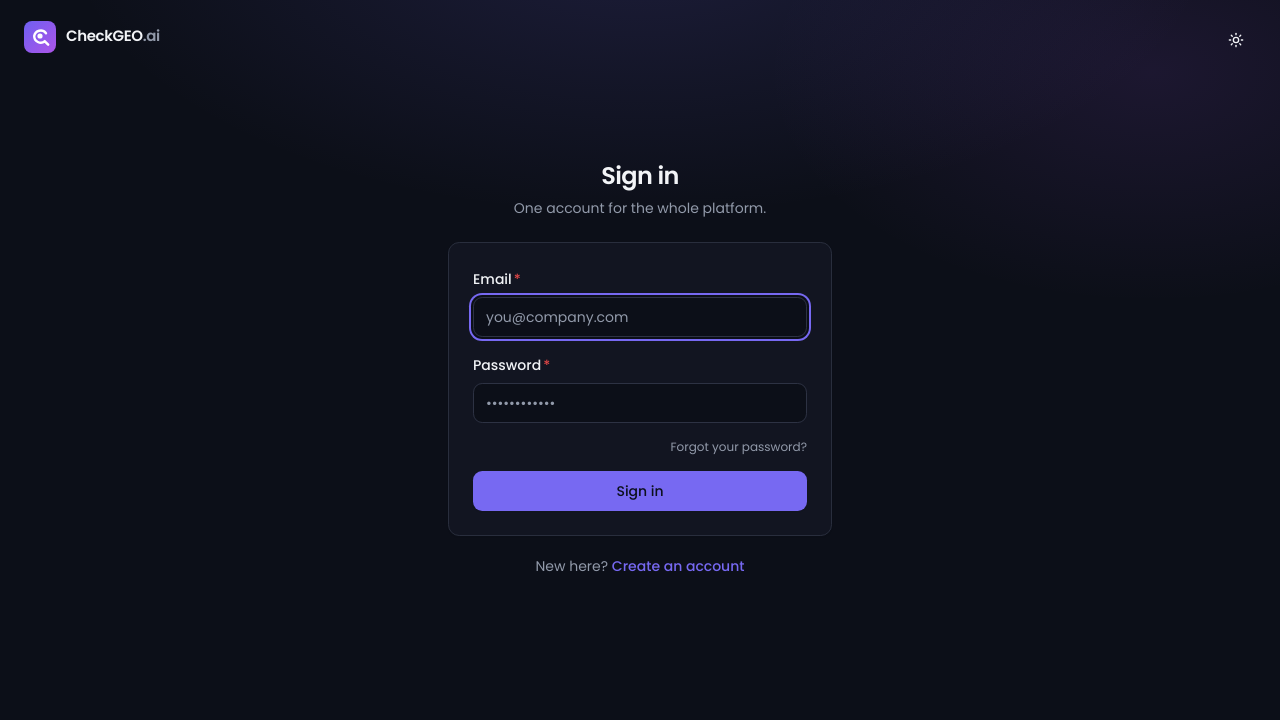
Test: Login page › reveals the two-factor field when the server asks for a code
Type "person@example.com" into the field labelled "Email*" at (640, 317), box [473, 297, 807, 337]
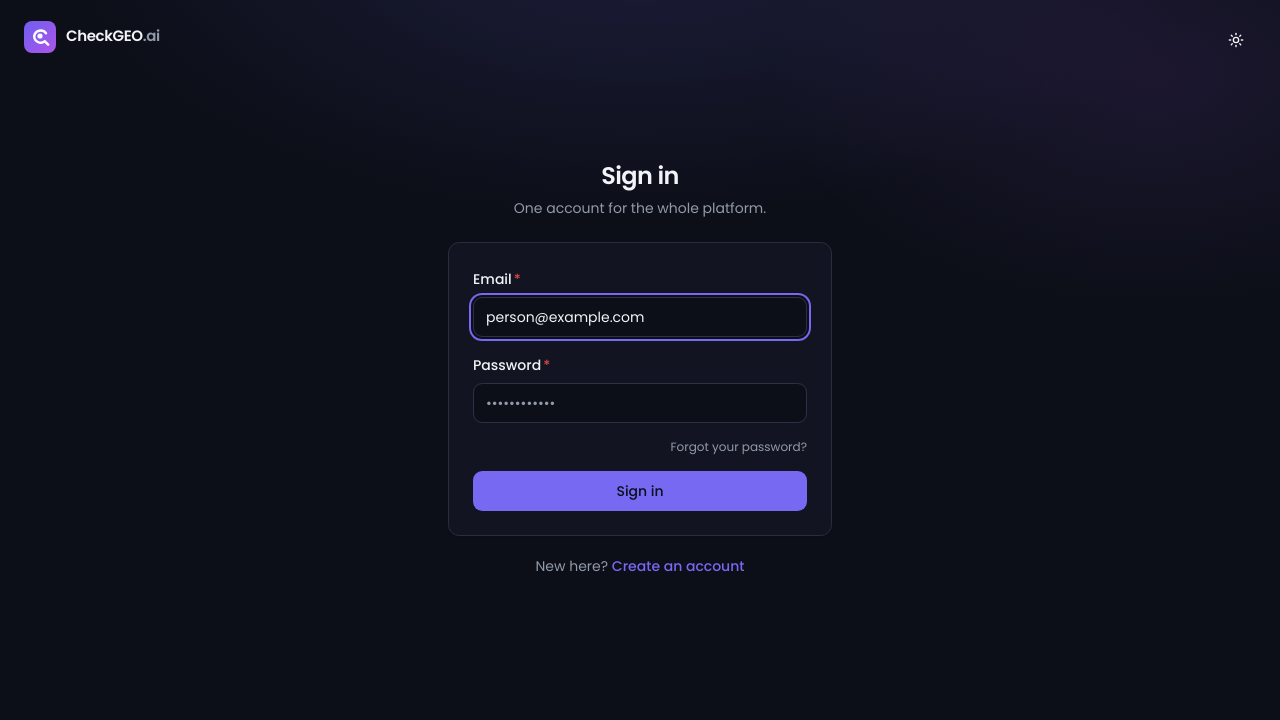
Type "correct-horse-battery" into the password field labelled "Password*" at (640, 403), box [473, 383, 807, 423]
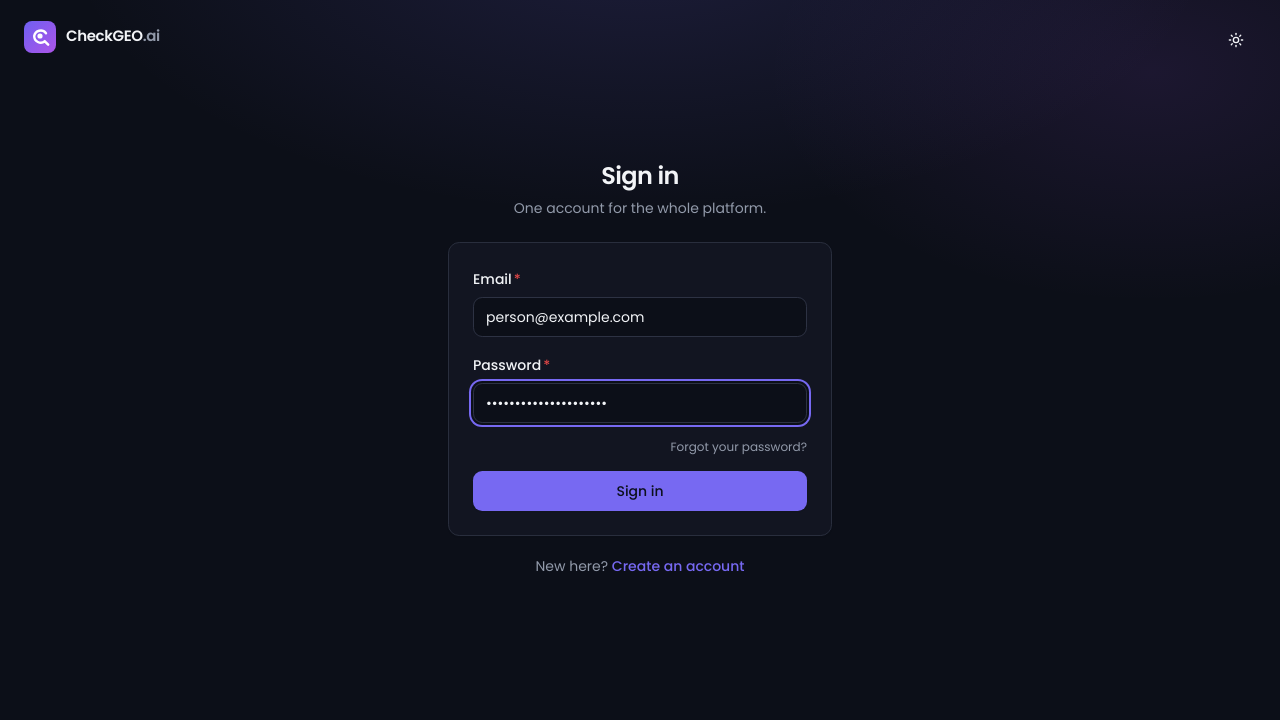
Click the button "Sign in" at (640, 491), box [473, 471, 807, 511]
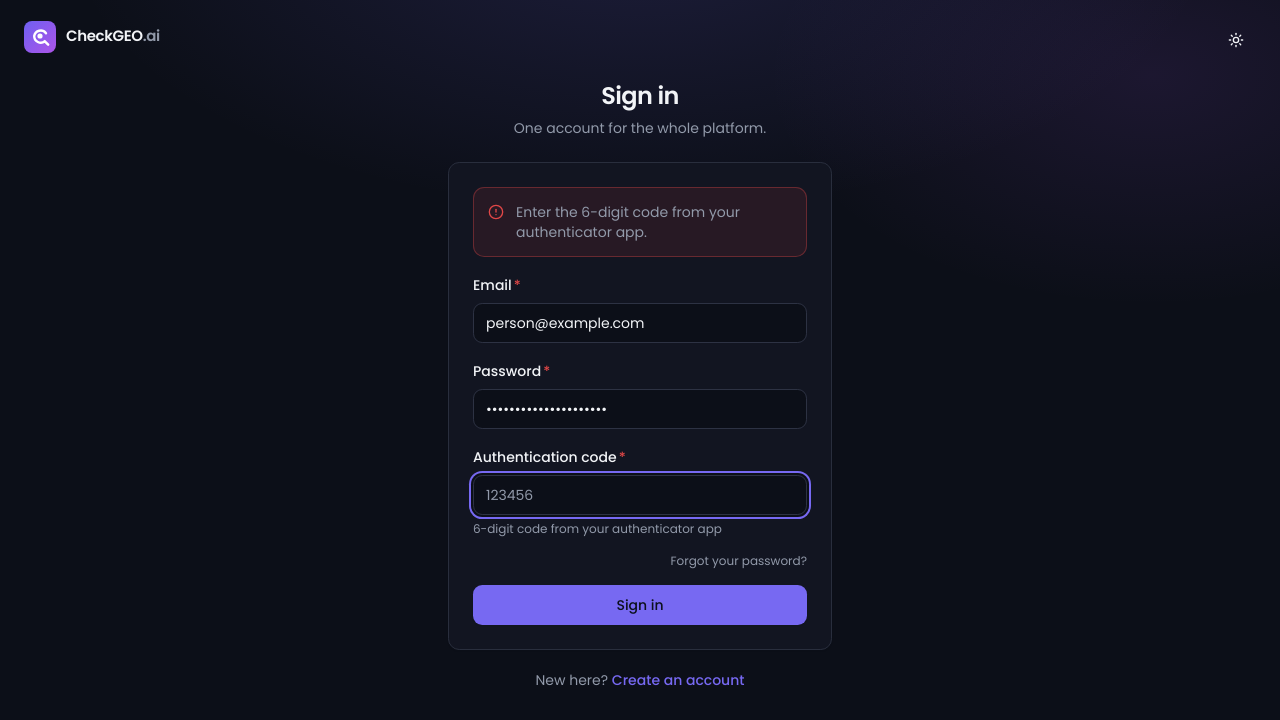
Expected: the field labelled "Authentication code*" is shown, [473, 475, 807, 515]
